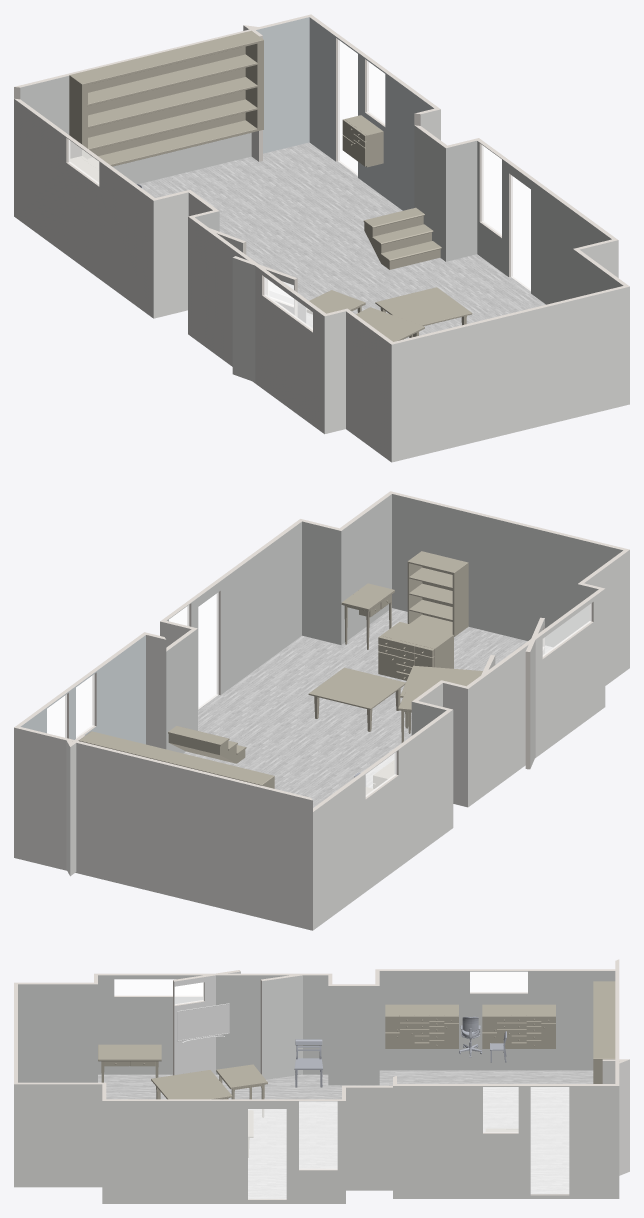
The model's file is TechHubModel.glb.
3 views of the same model, one above another, from view 1: azimuth 30°, elevation 25°; view 2: azimuth 150°, elevation 25°; view 3: azimuth 270°, elevation 25° (orthographic). The views are drawn at different scales.
Visible parts, largest first — view 1: wall_11, floor_Dining_Room, storage_shelf0, wall_13, wall_40, wall_30, wall_22, wall_56, wall_12, wall_34, wall_9, wall_66 (+28 smaller); view 2: wall_4, floor_Dining_Room, wall_48, wall_13, wall_30, wall_22, wall_15, wall_40, wall_16, wall_32, wall_68, storage_shelf1 (+31 smaller); view 3: wall_7, wall_2, floor_Dining_Room, wall_52, wall_3, wall_50, wall_70, wall_28, wall_0, door_0, door_2, wall_42 (+32 smaller).
Boxes of the visible parts, bbox=[...] form: wall_11: bbox=[391, 286, 629, 462]; floor_Dining_Room: bbox=[139, 142, 545, 339]; storage_shelf0: bbox=[69, 30, 263, 167]; wall_13: bbox=[14, 99, 153, 318]; wall_40: bbox=[309, 17, 433, 210]; wall_30: bbox=[477, 141, 611, 304]; wall_22: bbox=[255, 266, 324, 433]; wall_56: bbox=[260, 17, 309, 153]; wall_12: bbox=[346, 311, 391, 462]; wall_34: bbox=[20, 76, 251, 183]; wall_9: bbox=[153, 192, 188, 318]; wall_66: bbox=[446, 141, 477, 261]; wall_4: bbox=[76, 743, 312, 930]; floor_Dining_Room: bbox=[183, 608, 552, 807]; wall_48: bbox=[392, 494, 622, 646]; wall_13: bbox=[313, 710, 453, 930]; wall_30: bbox=[167, 522, 301, 711]; wall_22: bbox=[535, 589, 605, 757]; wall_15: bbox=[14, 727, 66, 870]; wall_40: bbox=[20, 635, 145, 744]; wall_16: bbox=[485, 645, 528, 794]; wall_32: bbox=[341, 494, 391, 644]; wall_68: bbox=[302, 521, 341, 644]; storage_shelf1: bbox=[407, 551, 468, 636]; wall_7: bbox=[393, 1086, 619, 1198]; wall_2: bbox=[102, 1101, 345, 1203]; floor_Dining_Room: bbox=[98, 1070, 593, 1198]; wall_52: bbox=[379, 971, 615, 1070]; wall_3: bbox=[14, 1084, 102, 1187]; wall_50: bbox=[18, 984, 97, 1082]; wall_70: bbox=[98, 975, 202, 1074]; wall_28: bbox=[328, 986, 379, 1085]; wall_0: bbox=[346, 1087, 392, 1190]; door_0: bbox=[531, 1087, 568, 1193]; door_2: bbox=[531, 1087, 568, 1193]; wall_42: bbox=[262, 975, 302, 1079].
Size of the model in its own units: 7.59 by 3.06 by 15.03.
72 materials, 1 textured.
